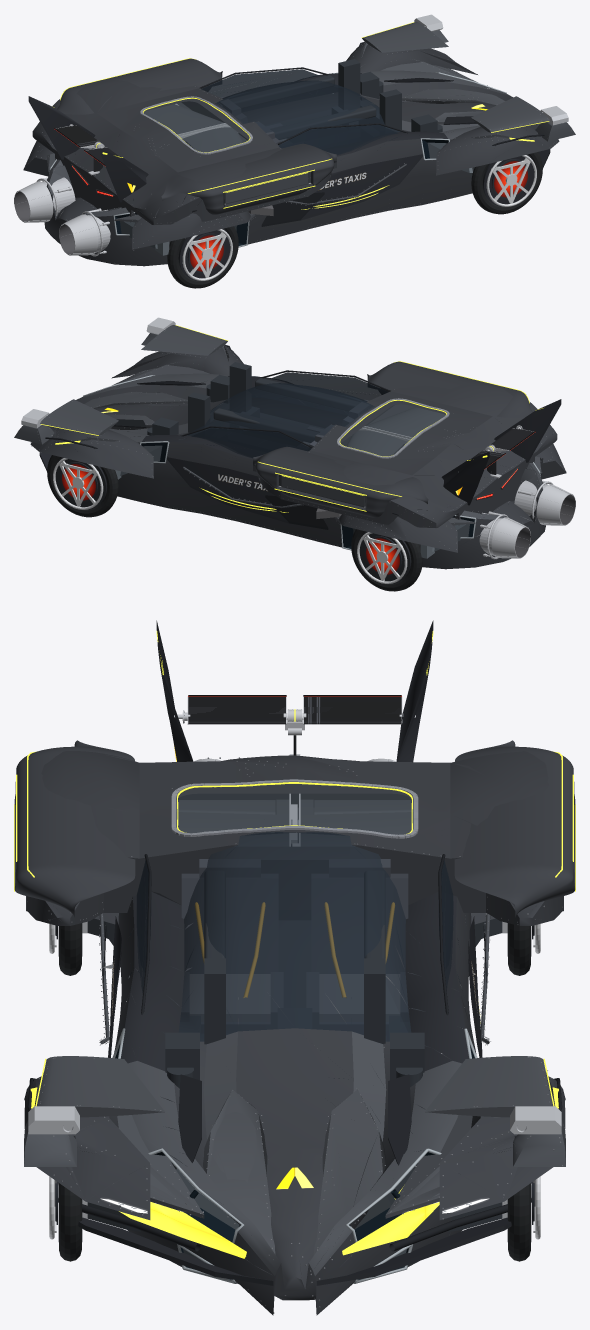
The model's file is phantom-a10-blendstra-81c823e2.glb.
The picture shows the model from 3 angles, top to bottom: view 1: azimuth 30°, elevation 25°; view 2: azimuth 150°, elevation 25°; view 3: azimuth 270°, elevation 25°; orthographic projection. The views are drawn at different scales.
Parts seen in each view (by area): view 1: PHANTOM_A8_INTEGRATED_DUCTED_FACETED_CFRP_HULL, VTX_VISUAL_WING_CASSETTE_COWLS, PHANTOM_FRONT_LEFT_WIDEBODY_ANGULAR_FENDER, PHANTOM_LEFT_BLACK_INVERTED_SPEAR_DOOR, A10_SLEEVE_CARRY_THROUGH_BOX, PHANTOM_REAR_LEFT_WIDEBODY_ANGULAR_FENDER, PHANTOM_LEFT_TRIANGULAR_COUPÉ_SIDEGLASS, PHANTOM_FRONT_RIGHT_WIDEBODY_ANGULAR_FENDER, A10_CANARD_R_ALL_MOVING_BLADE, A10_CANARD_L_ALL_MOVING_BLADE, PHANTOM_RIGHT_TRIANGULAR_COUPÉ_SIDEGLASS, PHANTOM_RIGHT_ANGULAR_RAKED_V_TAIL (+32 smaller); view 2: PHANTOM_A8_INTEGRATED_DUCTED_FACETED_CFRP_HULL, VTX_VISUAL_WING_CASSETTE_COWLS, PHANTOM_FRONT_RIGHT_WIDEBODY_ANGULAR_FENDER, PHANTOM_RIGHT_BLACK_INVERTED_SPEAR_DOOR, A10_SLEEVE_CARRY_THROUGH_BOX, PHANTOM_REAR_RIGHT_WIDEBODY_ANGULAR_FENDER, PHANTOM_RIGHT_TRIANGULAR_COUPÉ_SIDEGLASS, PHANTOM_FRONT_LEFT_WIDEBODY_ANGULAR_FENDER, A10_CANARD_L_ALL_MOVING_BLADE, A10_CANARD_R_ALL_MOVING_BLADE, PHANTOM_LEFT_TRIANGULAR_COUPÉ_SIDEGLASS, PHANTOM_LEFT_ANGULAR_RAKED_V_TAIL (+33 smaller); view 3: PHANTOM_A8_INTEGRATED_DUCTED_FACETED_CFRP_HULL, VTX_VISUAL_WING_CASSETTE_COWLS, A10_SLEEVE_CARRY_THROUGH_BOX, SEAT_DRIVER_CFRP_ENERGY_ABSORBING_BACK, SEAT_PASSENGER_CFRP_ENERGY_ABSORBING_BACK, PHANTOM_FRONT_LEFT_WIDEBODY_ANGULAR_FENDER, PHANTOM_FRONT_RIGHT_WIDEBODY_ANGULAR_FENDER, PHANTOM_RIGHT_SPEAR_BONNET_RIDGE, PHANTOM_LEFT_SPEAR_BONNET_RIDGE, VTX_VISUAL_DRS_CARBON_BLADES, A10_CANARD_L_ALL_MOVING_BLADE, A10_CANARD_R_ALL_MOVING_BLADE (+41 smaller).
Boxes of the visible parts, bbox=[...] form: PHANTOM_A8_INTEGRATED_DUCTED_FACETED_CFRP_HULL: bbox=[32, 70, 541, 266]; VTX_VISUAL_WING_CASSETTE_COWLS: bbox=[57, 58, 336, 214]; PHANTOM_FRONT_LEFT_WIDEBODY_ANGULAR_FENDER: bbox=[436, 123, 559, 175]; PHANTOM_LEFT_BLACK_INVERTED_SPEAR_DOOR: bbox=[300, 154, 422, 220]; A10_SLEEVE_CARRY_THROUGH_BOX: bbox=[144, 101, 248, 151]; PHANTOM_REAR_LEFT_WIDEBODY_ANGULAR_FENDER: bbox=[132, 208, 255, 249]; PHANTOM_LEFT_TRIANGULAR_COUPÉ_SIDEGLASS: bbox=[278, 125, 398, 155]; PHANTOM_FRONT_RIGHT_WIDEBODY_ANGULAR_FENDER: bbox=[346, 42, 477, 74]; A10_CANARD_R_ALL_MOVING_BLADE: bbox=[362, 22, 448, 52]; A10_CANARD_L_ALL_MOVING_BLADE: bbox=[471, 96, 549, 132]; PHANTOM_RIGHT_TRIANGULAR_COUPÉ_SIDEGLASS: bbox=[201, 69, 319, 97]; PHANTOM_RIGHT_ANGULAR_RAKED_V_TAIL: bbox=[28, 96, 95, 159]; PHANTOM_A8_INTEGRATED_DUCTED_FACETED_CFRP_HULL: bbox=[48, 373, 557, 569]; VTX_VISUAL_WING_CASSETTE_COWLS: bbox=[253, 361, 532, 517]; PHANTOM_FRONT_RIGHT_WIDEBODY_ANGULAR_FENDER: bbox=[30, 426, 153, 478]; PHANTOM_RIGHT_BLACK_INVERTED_SPEAR_DOOR: bbox=[167, 457, 289, 523]; A10_SLEEVE_CARRY_THROUGH_BOX: bbox=[341, 405, 444, 455]; PHANTOM_REAR_RIGHT_WIDEBODY_ANGULAR_FENDER: bbox=[334, 509, 457, 552]; PHANTOM_RIGHT_TRIANGULAR_COUPÉ_SIDEGLASS: bbox=[191, 428, 311, 458]; PHANTOM_FRONT_LEFT_WIDEBODY_ANGULAR_FENDER: bbox=[111, 345, 243, 378]; A10_CANARD_L_ALL_MOVING_BLADE: bbox=[141, 325, 227, 355]; A10_CANARD_R_ALL_MOVING_BLADE: bbox=[40, 399, 118, 435]; PHANTOM_LEFT_TRIANGULAR_COUPÉ_SIDEGLASS: bbox=[270, 372, 388, 400]; PHANTOM_LEFT_ANGULAR_RAKED_V_TAIL: bbox=[494, 399, 561, 462]; PHANTOM_A8_INTEGRATED_DUCTED_FACETED_CFRP_HULL: bbox=[26, 751, 563, 1315]; VTX_VISUAL_WING_CASSETTE_COWLS: bbox=[14, 740, 575, 917]; A10_SLEEVE_CARRY_THROUGH_BOX: bbox=[176, 793, 413, 846]; SEAT_DRIVER_CFRP_ENERGY_ABSORBING_BACK: bbox=[181, 873, 278, 973]; SEAT_PASSENGER_CFRP_ENERGY_ABSORBING_BACK: bbox=[311, 873, 408, 973]; PHANTOM_FRONT_LEFT_WIDEBODY_ANGULAR_FENDER: bbox=[24, 1076, 150, 1219]; PHANTOM_FRONT_RIGHT_WIDEBODY_ANGULAR_FENDER: bbox=[439, 1076, 565, 1219]; PHANTOM_RIGHT_SPEAR_BONNET_RIDGE: bbox=[313, 1089, 386, 1261]; PHANTOM_LEFT_SPEAR_BONNET_RIDGE: bbox=[203, 1089, 275, 1254]; VTX_VISUAL_DRS_CARBON_BLADES: bbox=[188, 695, 401, 724]; A10_CANARD_L_ALL_MOVING_BLADE: bbox=[37, 1056, 164, 1117]; A10_CANARD_R_ALL_MOVING_BLADE: bbox=[425, 1056, 552, 1117].
Size of the model in its own units: 5.09 by 1.4 by 2.6.
Materials: 43 (5 with a texture image).
